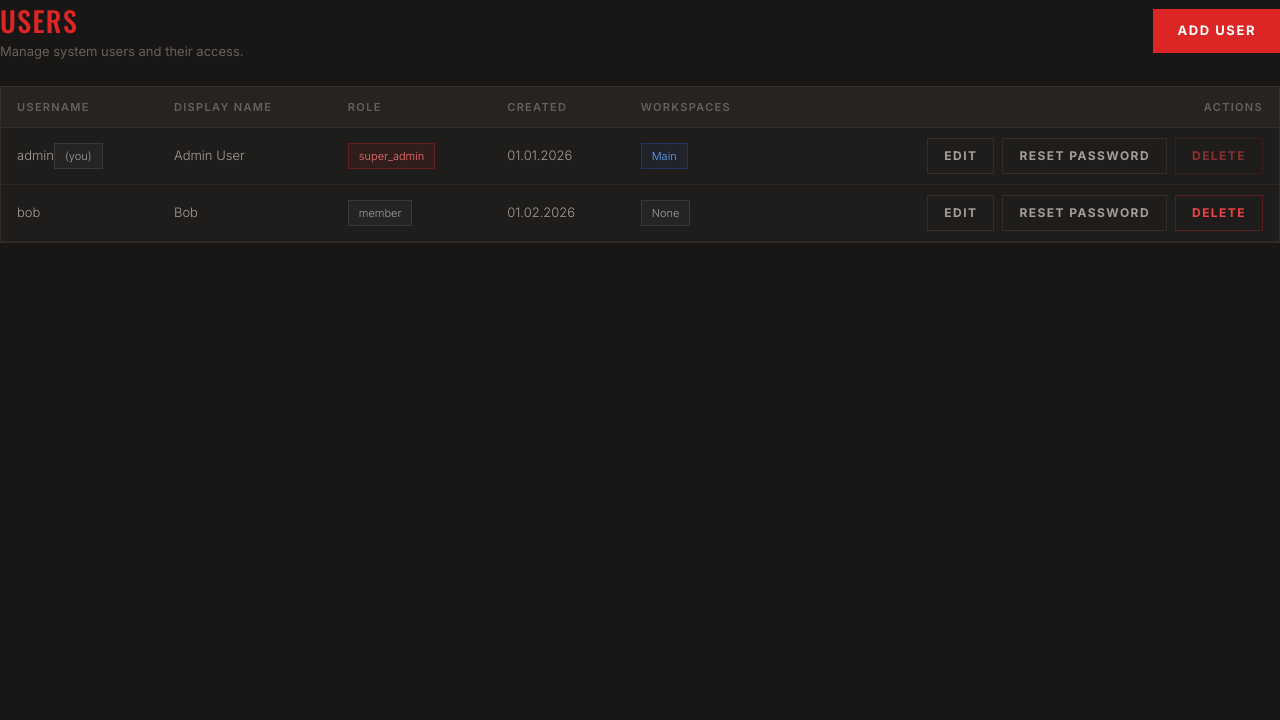
Test: AdminUsersPage › opens Add User modal when button clicked
The image size is (1280, 720).
Click the button "Add User" at (1217, 31), box [1154,9,1279,52]
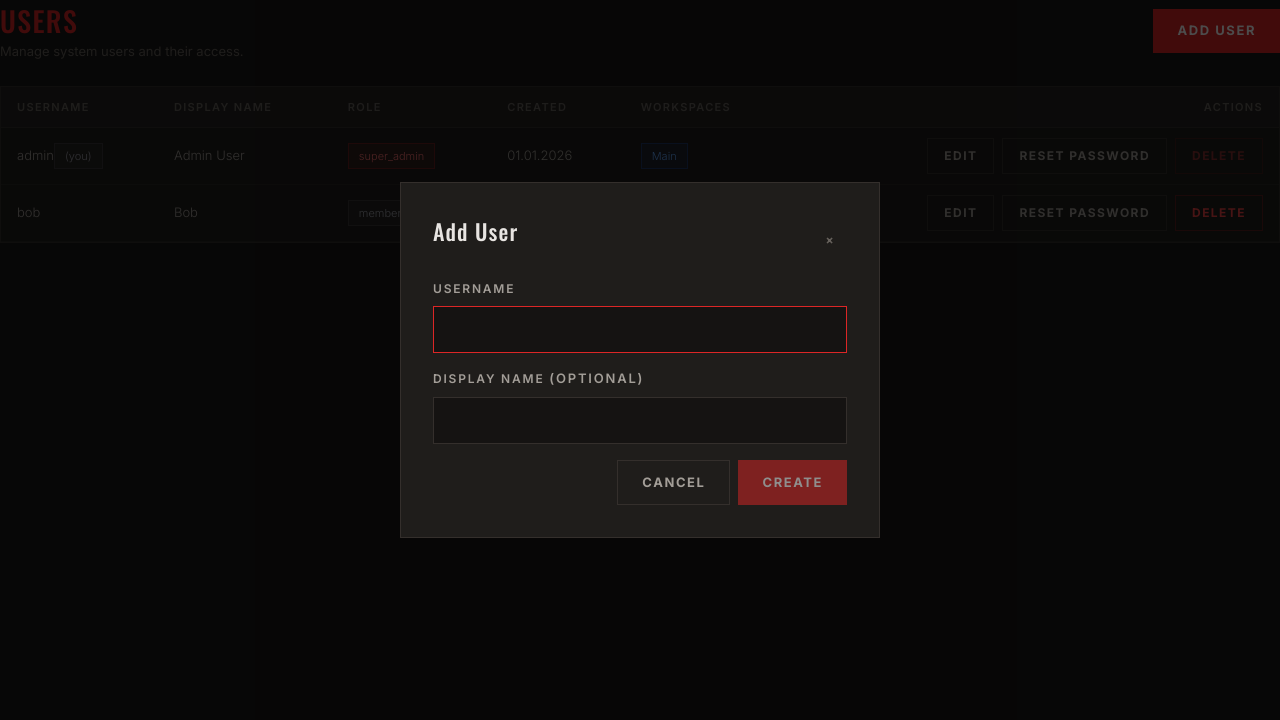
Check: the dialog is shown
Check: the field labelled "Username" is shown, box [433,306,847,353]
